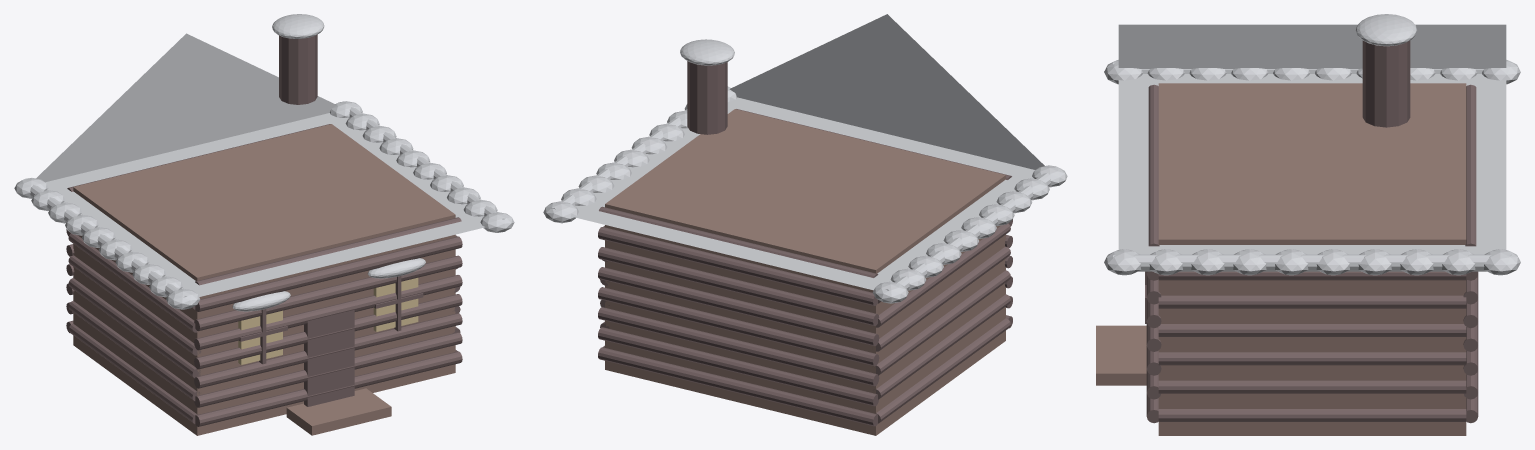
Rendered from winter_cabin.glb.
3 renders of one model, left to right at view 1: azimuth 30°, elevation 25°; view 2: azimuth 150°, elevation 25°; view 3: azimuth 270°, elevation 25°, orthographic. The views are drawn at different scales.
Visible parts, largest first — view 1: log_cabin_core, continuous_snow_gable, front_door, log_2.78_3.26, log_2.78_0.96, log_2.78_0.5, log_2.78_1.42, log_2.78_2.8, front_step, log_2.78_2.34, log_2.78_1.88, chimney (+15 smaller); view 2: log_cabin_core, continuous_snow_gable, log_-2.78_1.42, log_-2.78_1.88, log_-2.78_2.34, log_-2.78_0.96, log_-2.78_2.8, log_-2.78_0.5, log_-2.78_3.26, chimney, side_log_-3.25_1.6, side_log_-3.25_1.05 (+9 smaller); view 3: log_cabin_core, continuous_snow_gable, side_log_3.25_1.05, side_log_3.25_1.6, side_log_3.25_2.7, side_log_3.25_0.5, side_log_3.25_2.1500000000000004, chimney, front_step, side_log_3.25_3.25, roof_ridge, log_-2.78_3.7199999999999998 (+14 smaller).
Part boxes in pixels (x1,y1,x2,y2): log_cabin_core: (73, 124, 455, 435); continuous_snow_gable: (36, 33, 485, 296); front_door: (304, 310, 354, 406); log_2.78_3.26: (195, 236, 462, 311); log_2.78_0.96: (194, 332, 462, 407); log_2.78_0.5: (195, 351, 462, 426); log_2.78_1.42: (194, 313, 462, 388); log_2.78_2.8: (194, 255, 462, 330); front_step: (286, 388, 391, 435); log_2.78_2.34: (194, 275, 462, 350); log_2.78_1.88: (194, 294, 462, 369); chimney: (279, 34, 317, 104); log_cabin_core: (605, 109, 1005, 435); continuous_snow_gable: (573, 14, 1044, 290); log_-2.78_1.42: (598, 307, 879, 386); log_-2.78_1.88: (598, 287, 879, 366); log_-2.78_2.34: (598, 267, 879, 346); log_-2.78_0.96: (598, 327, 878, 406); log_-2.78_2.8: (598, 247, 879, 325); log_-2.78_0.5: (598, 347, 877, 426); log_-2.78_3.26: (598, 227, 877, 305); chimney: (687, 61, 727, 134); side_log_-3.25_1.6: (873, 270, 1010, 375); side_log_-3.25_1.05: (872, 294, 1010, 399); log_cabin_core: (1158, 83, 1466, 435); continuous_snow_gable: (1118, 24, 1506, 254); side_log_3.25_1.05: (1158, 380, 1466, 393); side_log_3.25_1.6: (1158, 352, 1466, 365); side_log_3.25_2.7: (1158, 295, 1466, 308); side_log_3.25_0.5: (1158, 409, 1466, 421); side_log_3.25_2.1500000000000004: (1158, 324, 1466, 336); chimney: (1362, 40, 1410, 127); front_step: (1096, 325, 1146, 385); side_log_3.25_3.25: (1158, 271, 1466, 280); roof_ridge: (1113, 254, 1511, 271); log_-2.78_3.7199999999999998: (1465, 84, 1476, 246).
Size of the model in its own units: 8.66 by 7.32 by 7.46.
